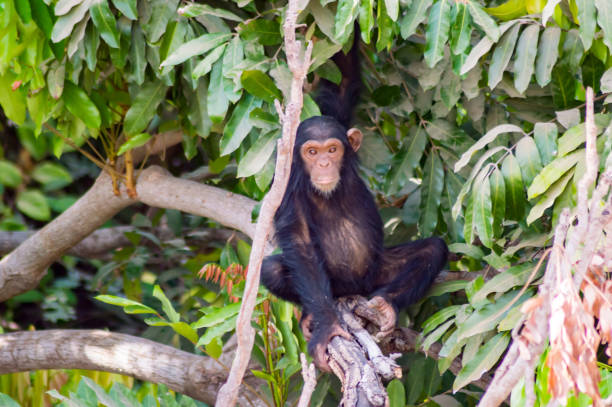chimpanzee: (286, 111, 369, 214)
